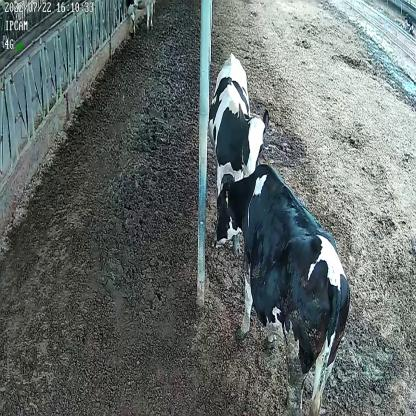cow: (212, 166, 352, 412), (208, 53, 270, 186)
